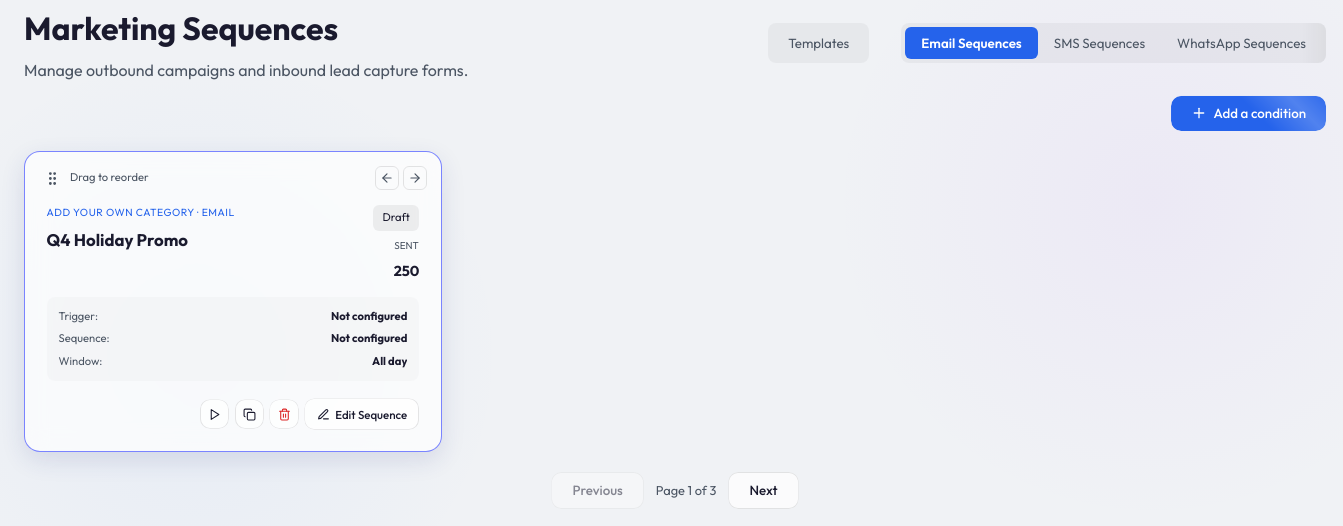
Test: <Marketing /> — Generic campaign workflow › ignores an older page response after returning to the first page
What coordinates should you click on to do the following:
click the button "Next"
I would click on:
 (763, 490)
Its box is [728,472,798,509].
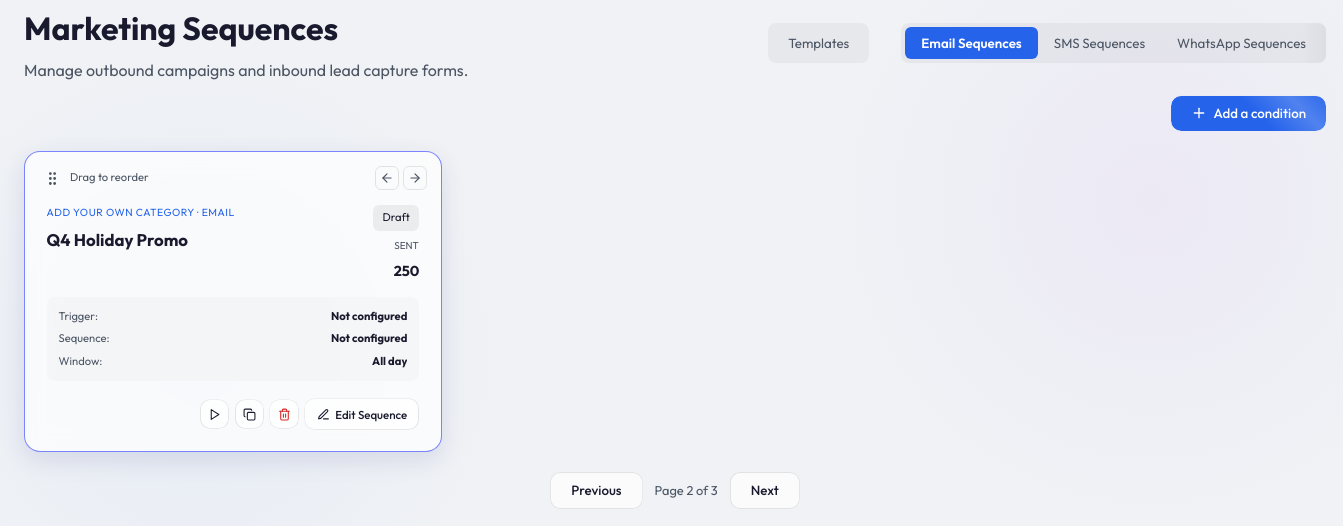
What coordinates should you click on to do the following:
click the button "Previous"
I would click on:
 (596, 490)
Its box is [550,472,642,509].
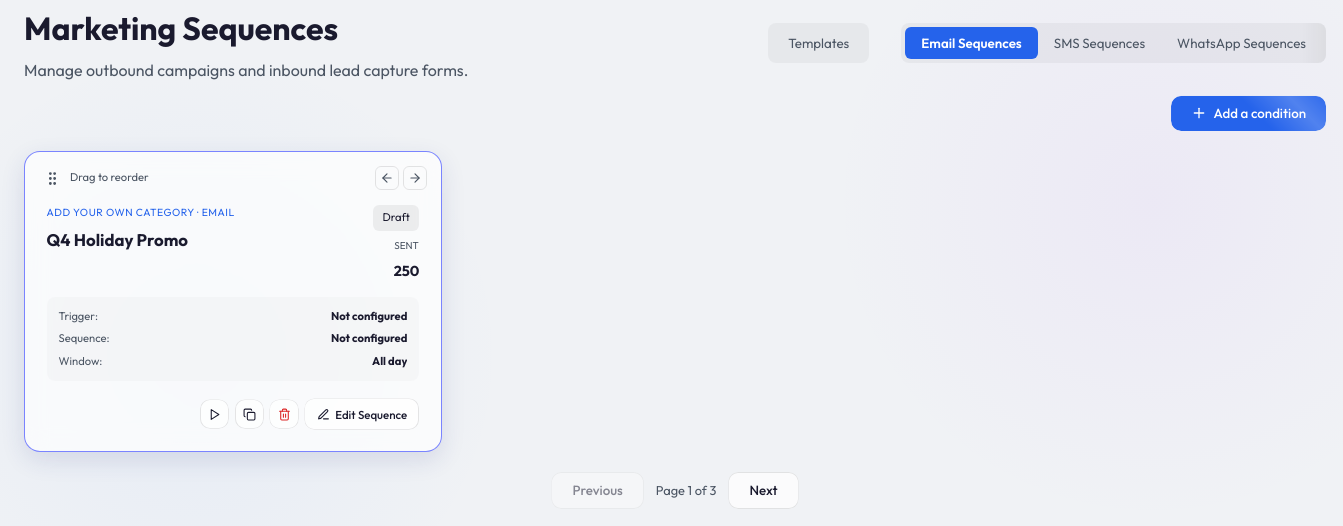
Expected: the heading "Q4 Holiday Promo" is shown, [47,229,188,250]
Now the text "Page 1 of 3" is shown, box [656,480,716,501]
